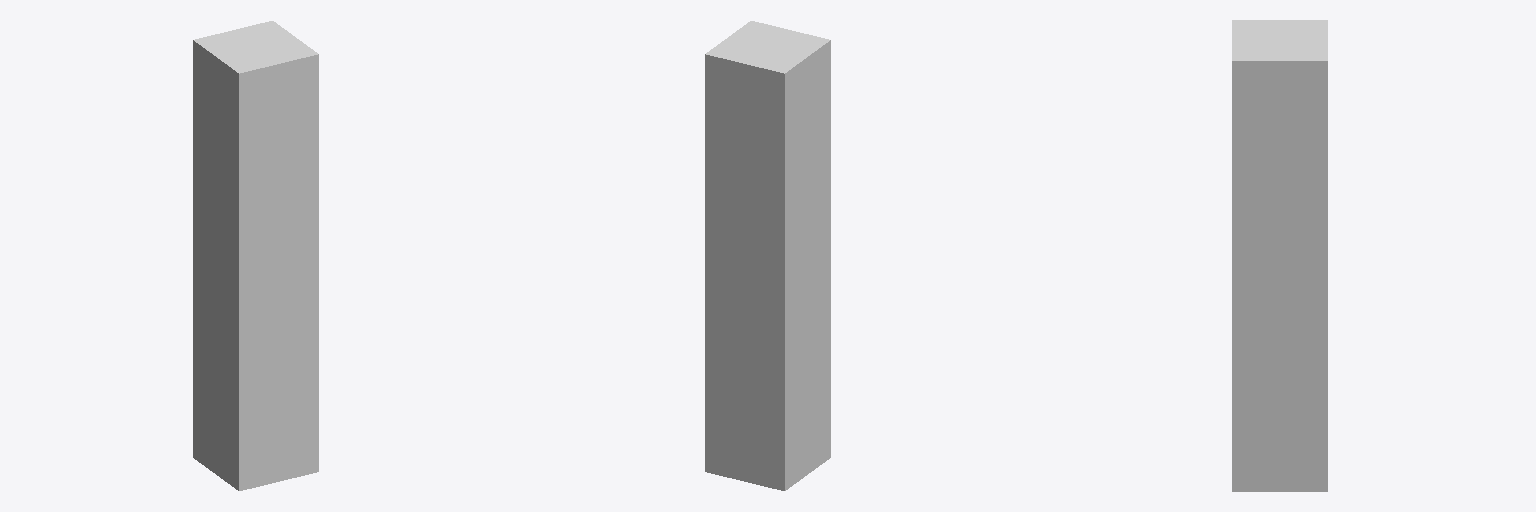
robot.urdf — cup:
<robot name="cup">
  <link name="base_link">
    <visual>
      <origin xyz="0 0 0" rpy="0 0 0" />
      <geometry>
        <box size="0.02 0.02 0.1"/>
      </geometry>
      <material name="lightGrey">
        <color rgba="0.9 0.9 0.9 1"/>
      </material>
    </visual>
    <collision>
      <origin xyz="0 0 0" rpy="0 0 0" />
      <geometry>
        <box size="0.02 0.02 0.1"/>
      </geometry>
    </collision>
  </link>
</robot>

--- What the picture shows (computed from the rendered views, not written in the file) ---
Views: 3 orthographic renders of the robot side by side, from view 1: azimuth 30°, elevation 25°; view 2: azimuth 150°, elevation 25°; view 3: azimuth 270°, elevation 25°.
Robot: cup — 1 links, 0 joints (none); root link base_link; default pose: every joint at zero.
Visible links, largest first — view 1: base_link; view 2: base_link; view 3: base_link.
Boxes of the visible links, box(x1,y1,x2,y2) form: base_link: box(193, 21, 318, 490); base_link: box(705, 21, 830, 490); base_link: box(1232, 20, 1327, 491).
Size in the robot's own frame: 0.02 by 0.02 by 0.1 metres.
Geometry: primitives only (box / cylinder / sphere), no mesh files.